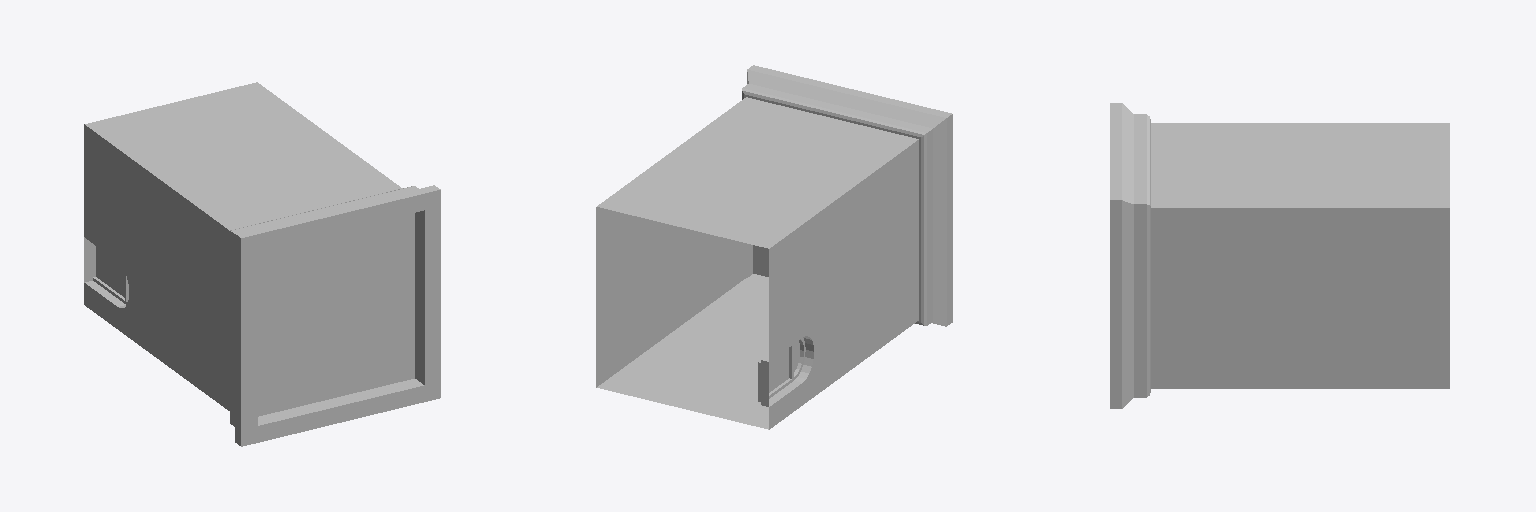
Rendered from building1.obj.
The picture shows the model from 3 angles: view 1: azimuth 30°, elevation 25°; view 2: azimuth 150°, elevation 25°; view 3: azimuth 270°, elevation 25°; orthographic projection.
Visible parts, largest first — view 1: building_1; view 2: building_1; view 3: building_1.
Boxes of the visible parts, box(x1,y1,x2,y2) form: building_1: box(84, 82, 440, 446); building_1: box(596, 65, 952, 429); building_1: box(1110, 103, 1449, 408).
Bounding box in the file's own units: 6.92 × 6.92 × 10.23.